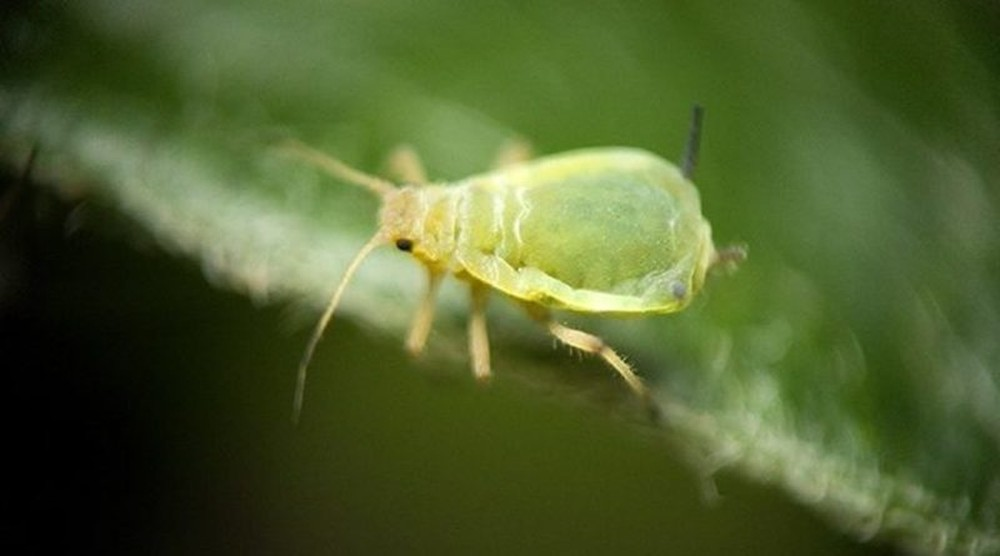Pulgon: (232, 104, 773, 454)
